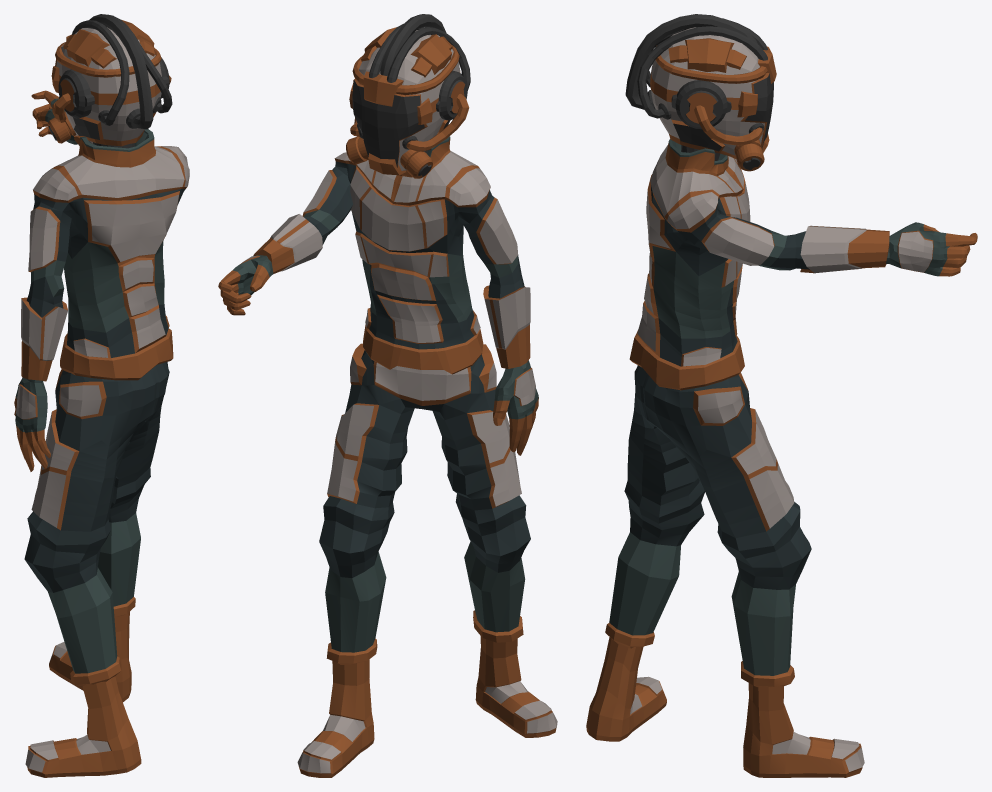
The model's file is armored-pilot.glb.
The picture shows the model from 3 angles, left to right: view 1: azimuth 30°, elevation 25°; view 2: azimuth 150°, elevation 25°; view 3: azimuth 270°, elevation 25°; orthographic projection. The views are drawn at different scales.
Parts seen in each view (by area): view 1: Raider_ArmoredPilot; view 2: Raider_ArmoredPilot; view 3: Raider_ArmoredPilot.
Boxes of the visible parts, box(x1,y1,x2,y2) form: Raider_ArmoredPilot: box(14, 14, 189, 777); Raider_ArmoredPilot: box(218, 14, 557, 777); Raider_ArmoredPilot: box(586, 14, 977, 777).
Bounding box in the file's own units: 0.6349 × 2.2 × 1.05.
